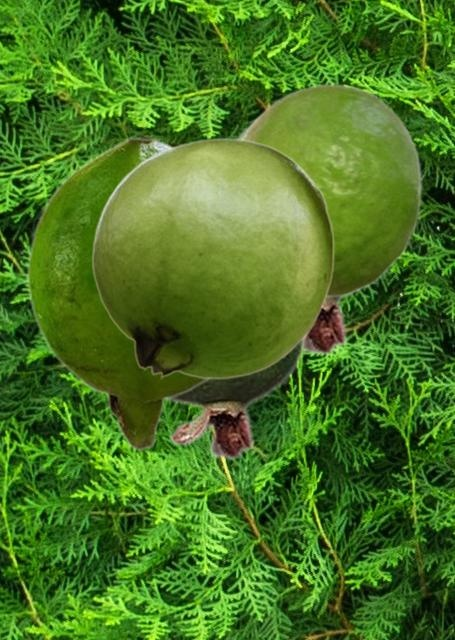guava: (26, 136, 214, 451), (91, 137, 334, 378), (242, 82, 422, 299), (233, 106, 363, 356), (164, 347, 307, 460)
